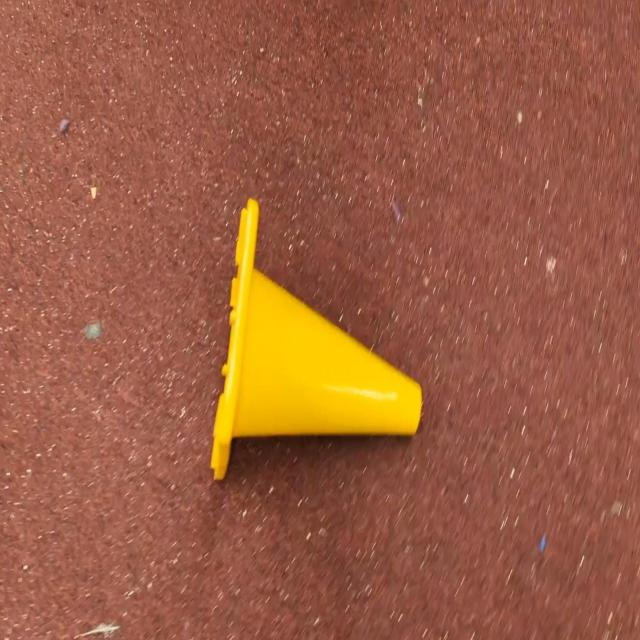frc_cone: (208, 197, 424, 489)
